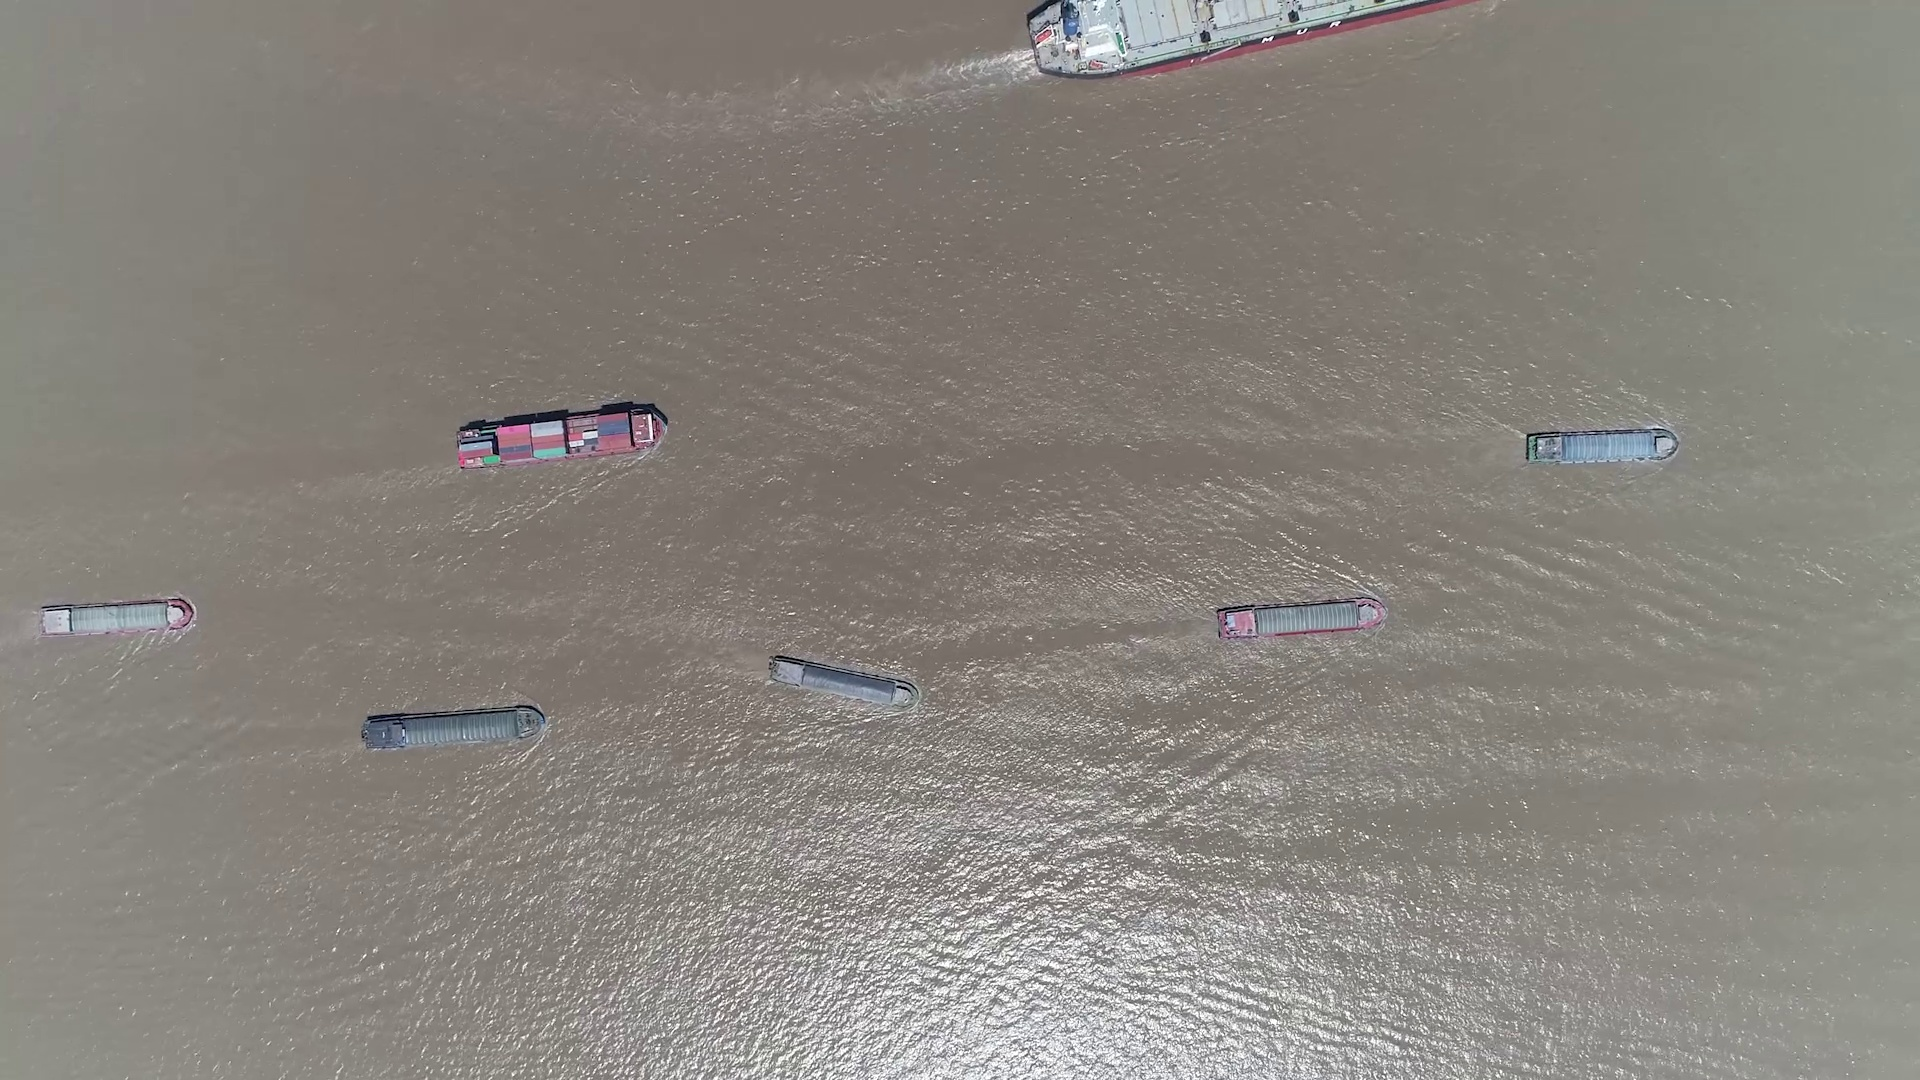ship: (1026, 3, 1476, 76), (454, 405, 666, 469), (767, 654, 919, 709), (363, 705, 549, 750), (1217, 596, 1386, 640), (36, 597, 193, 636), (1524, 429, 1677, 464)
